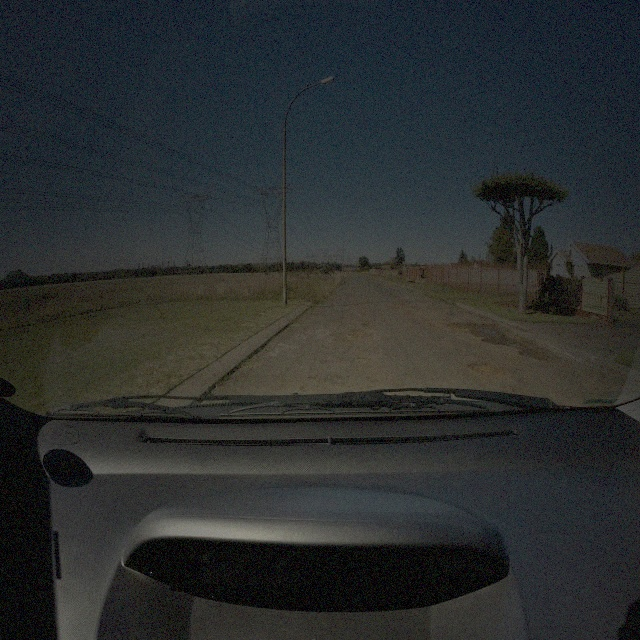pothole: (464, 360, 511, 379), (353, 328, 373, 340), (511, 388, 532, 399), (342, 336, 357, 344), (391, 304, 402, 312), (358, 358, 372, 364)
